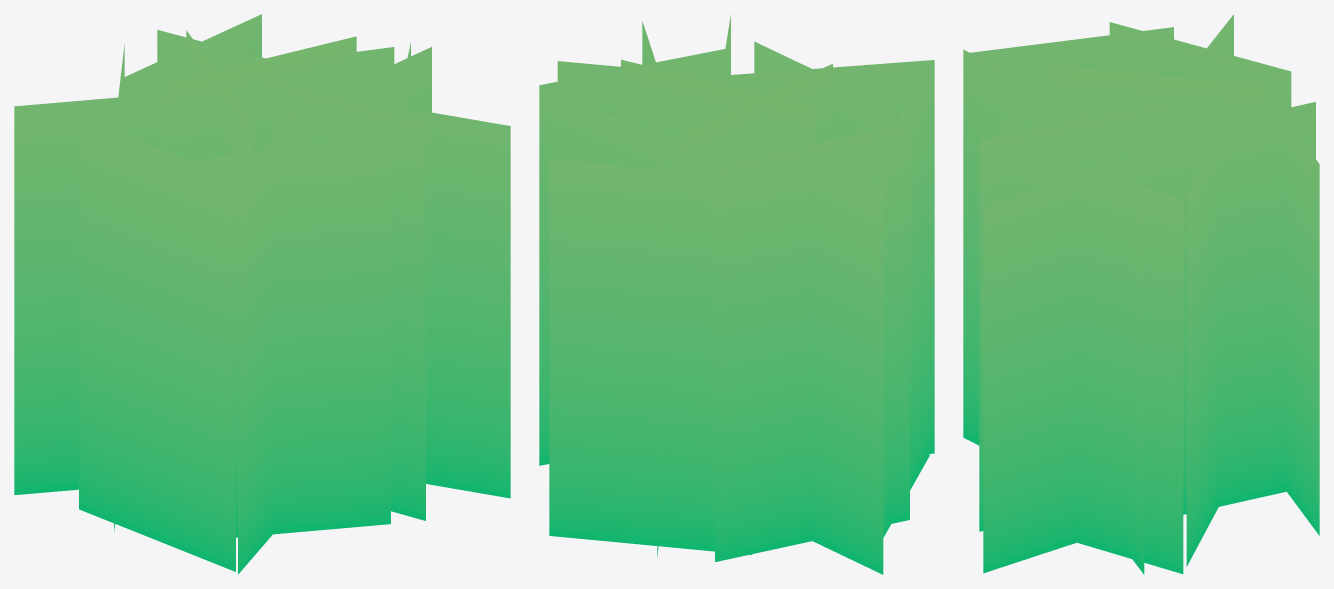
Rendered from Grass_1.0m_B_01.fbx.
3 renders of one model, left to right at view 1: azimuth 30°, elevation 25°; view 2: azimuth 150°, elevation 25°; view 3: azimuth 270°, elevation 25°, orthographic.
Parts seen in each view (by area): view 1: Grass_1.0m_B_01_LOD0; view 2: Grass_1.0m_B_01_LOD0; view 3: Grass_1.0m_B_01_LOD0.
Boxes of the visible parts, x1,y1,x2,y2 form: Grass_1.0m_B_01_LOD0: (14, 14, 510, 574); Grass_1.0m_B_01_LOD0: (539, 15, 934, 574); Grass_1.0m_B_01_LOD0: (963, 14, 1319, 574).
Size of what is drawn, in the model's own units: 0.9538 by 1.01 by 0.8043.
